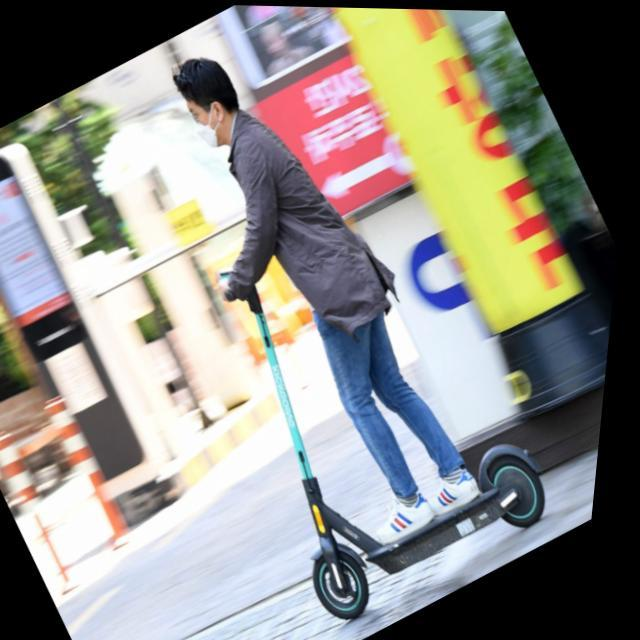Nonhelmet: (167, 44, 251, 150)
